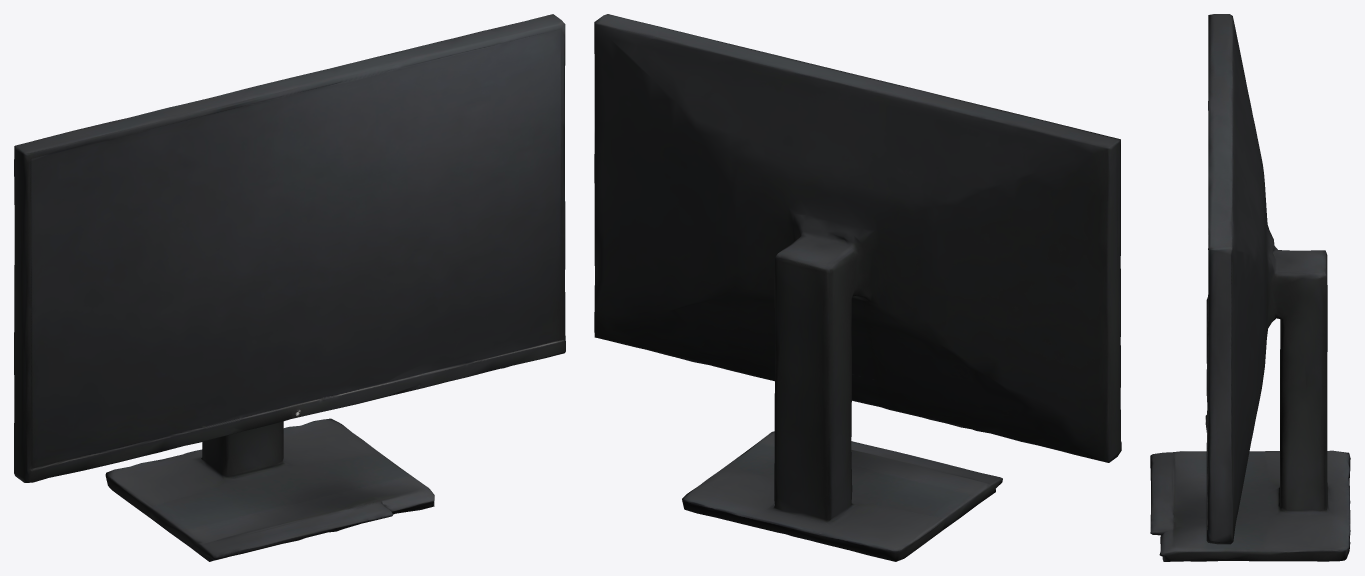
The model's file is lcd_monitor.fbx.
3 views of the same model, side by side, from view 1: azimuth 30°, elevation 25°; view 2: azimuth 150°, elevation 25°; view 3: azimuth 270°, elevation 25° (orthographic). The views are drawn at different scales.
Visible parts, largest first — view 1: lcd_monitor; view 2: lcd_monitor; view 3: lcd_monitor.
Boxes of the visible parts, left/top/right/bottom form: lcd_monitor: left=14, top=14, right=565, bottom=561; lcd_monitor: left=594, top=14, right=1121, bottom=561; lcd_monitor: left=1150, top=14, right=1350, bottom=561.
Bounding box in the file's own units: 0.5497 × 0.4158 × 0.1973.
Materials: 1 (1 with a texture image).
